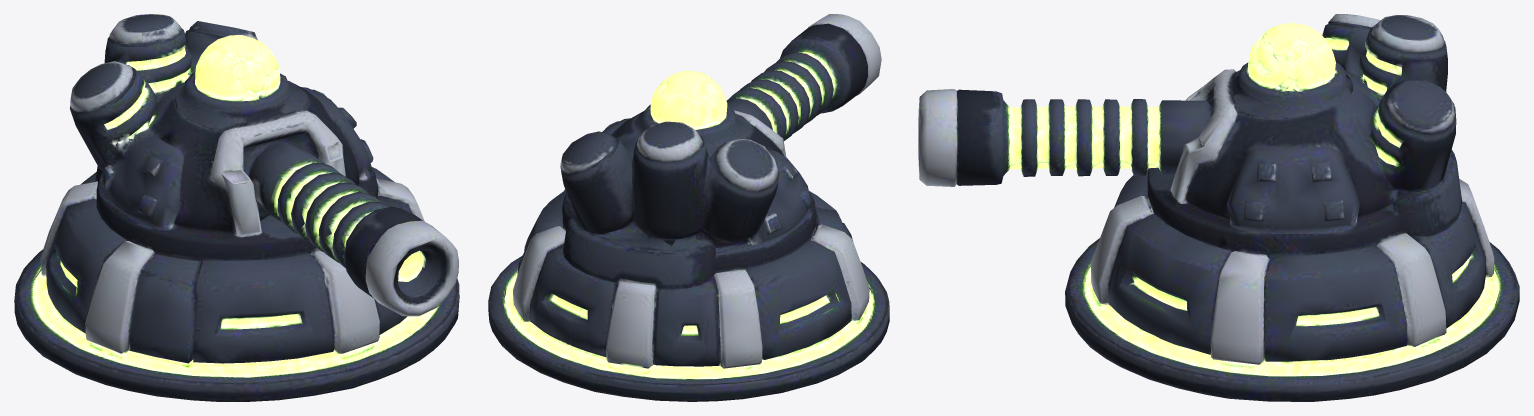
Rendered from warrior-6-tier-3.glb.
3 renders of one model, left to right at view 1: azimuth 30°, elevation 25°; view 2: azimuth 150°, elevation 25°; view 3: azimuth 270°, elevation 25°, orthographic. The views are drawn at different scales.
Parts seen in each view (by area): view 1: moving-assembly, fixed-platform; view 2: moving-assembly, fixed-platform; view 3: moving-assembly, fixed-platform.
Part boxes in pixels (x1,y1,x2,y2): moving-assembly: (70, 14, 458, 316); fixed-platform: (14, 167, 459, 401); moving-assembly: (560, 14, 881, 289); fixed-platform: (488, 189, 889, 401); moving-assembly: (918, 14, 1461, 257); fixed-platform: (1065, 168, 1519, 401).
Bounding box in the file's own units: 1.34 × 0.9054 × 1.75.
Materials: 1 (1 with a texture image).
